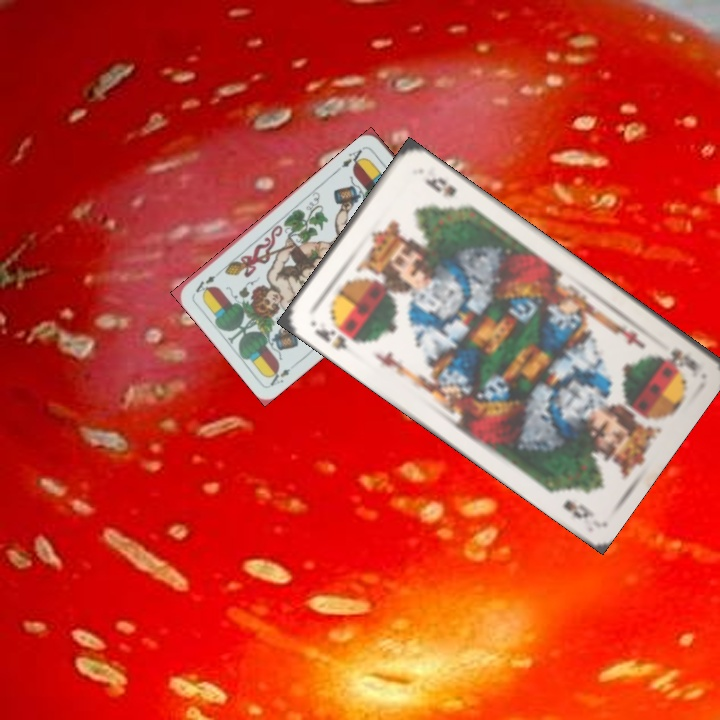EA: (337, 143, 368, 171), (264, 363, 293, 389)
SK: (306, 316, 362, 353), (662, 344, 702, 374)
